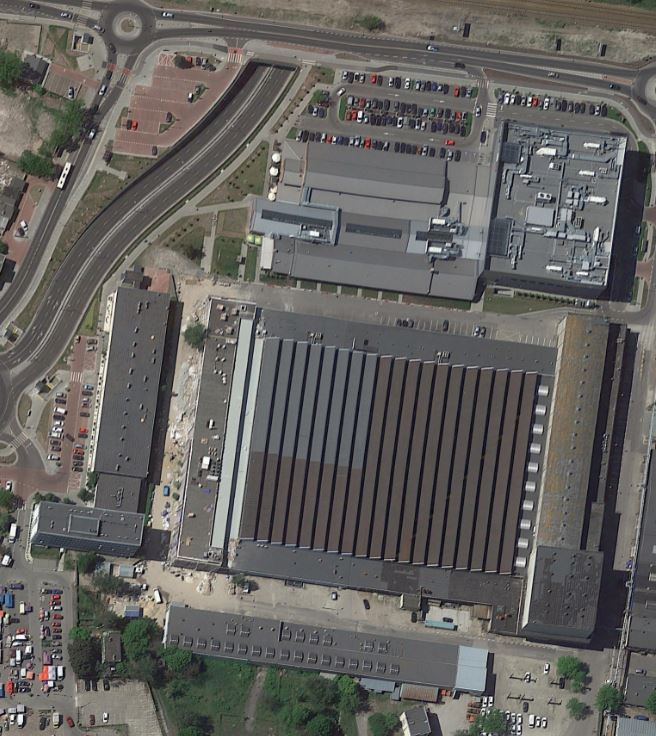block of flats: (17, 276, 178, 561)
garage: (152, 599, 498, 700)
shopping_center: (173, 291, 636, 650), (244, 110, 634, 308)
